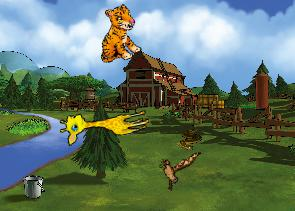eagle: (151, 140, 201, 196)
giraffe: (57, 98, 151, 147)
tiger: (86, 2, 147, 68)
